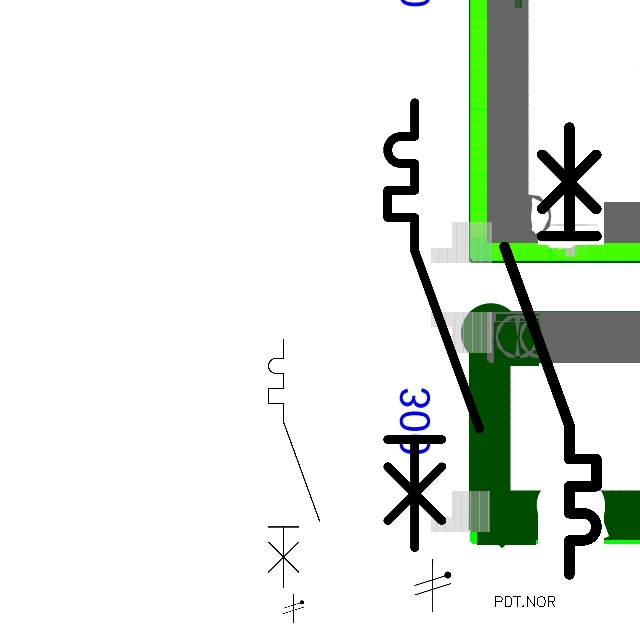interruptor_termomagnetico: (493, 116, 608, 586), (376, 91, 490, 559), (262, 333, 326, 594)
